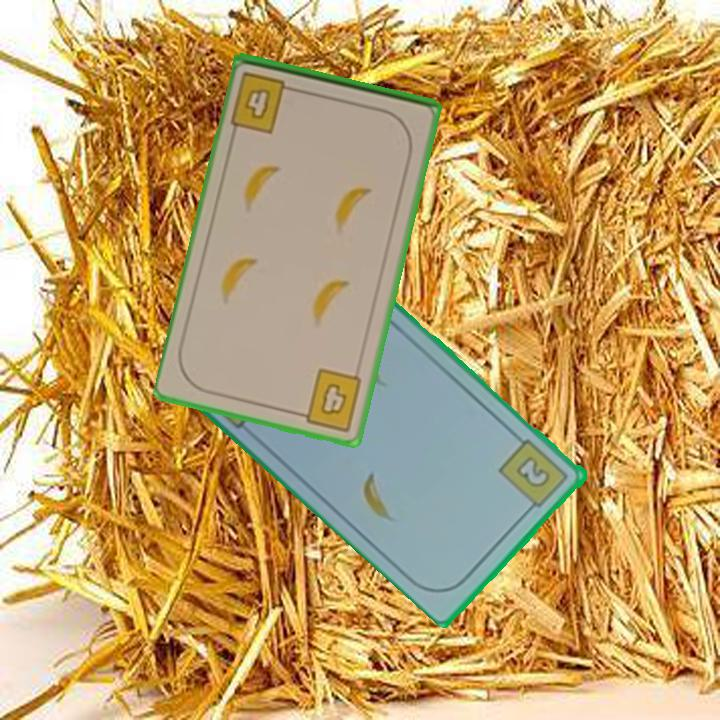2b: (496, 435, 572, 516)
4b: (292, 365, 366, 435), (227, 68, 301, 136)
